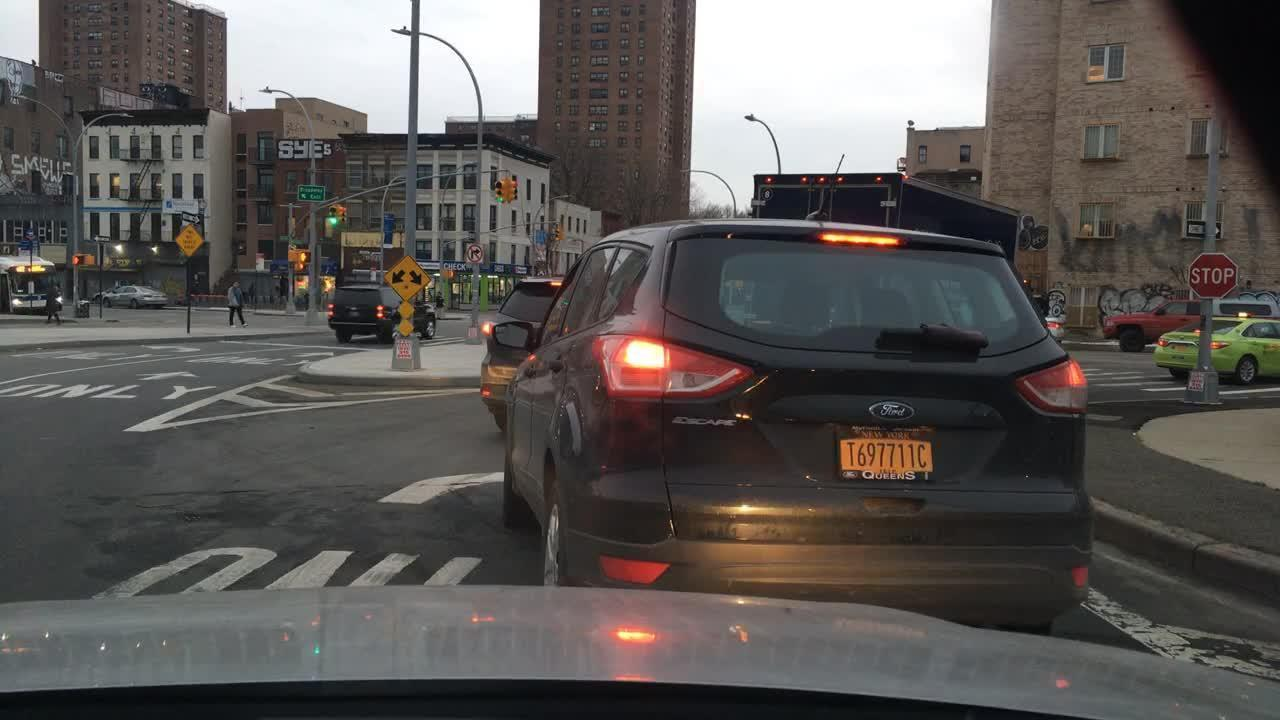ford: (871, 399, 916, 422)
